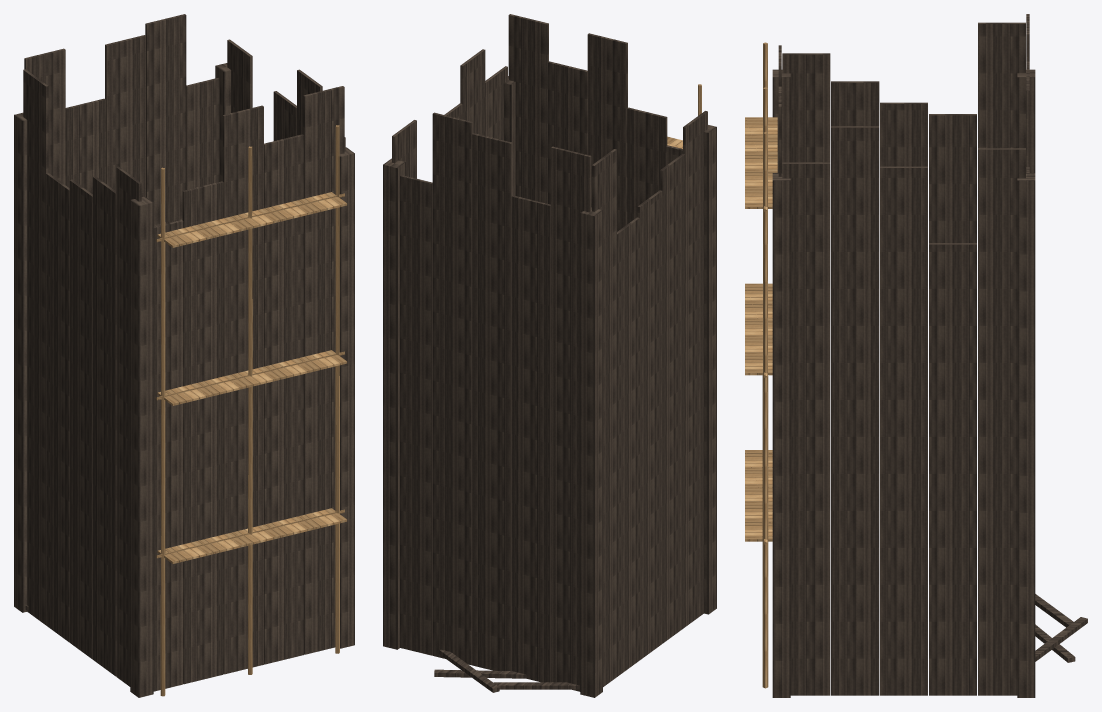
The model's file is Tower_Rampart_Wood_Ruined_1_LOD1.gltf.
3 renders of one model, left to right at view 1: azimuth 30°, elevation 25°; view 2: azimuth 150°, elevation 25°; view 3: azimuth 270°, elevation 25°, orthographic. The views are drawn at different scales.
Visible parts, largest first — view 1: Tower_Rampart_Wood_Ruined_1_LOD1; view 2: Tower_Rampart_Wood_Ruined_1_LOD1; view 3: Tower_Rampart_Wood_Ruined_1_LOD1.
Boxes of the visible parts, bbox=[...] form: Tower_Rampart_Wood_Ruined_1_LOD1: bbox=[14, 14, 354, 697]; Tower_Rampart_Wood_Ruined_1_LOD1: bbox=[383, 14, 716, 697]; Tower_Rampart_Wood_Ruined_1_LOD1: bbox=[745, 14, 1087, 697].
Bounding box in the file's own units: 6.44 × 15.89 × 8.41.
Materials: 2 (2 with a texture image).
